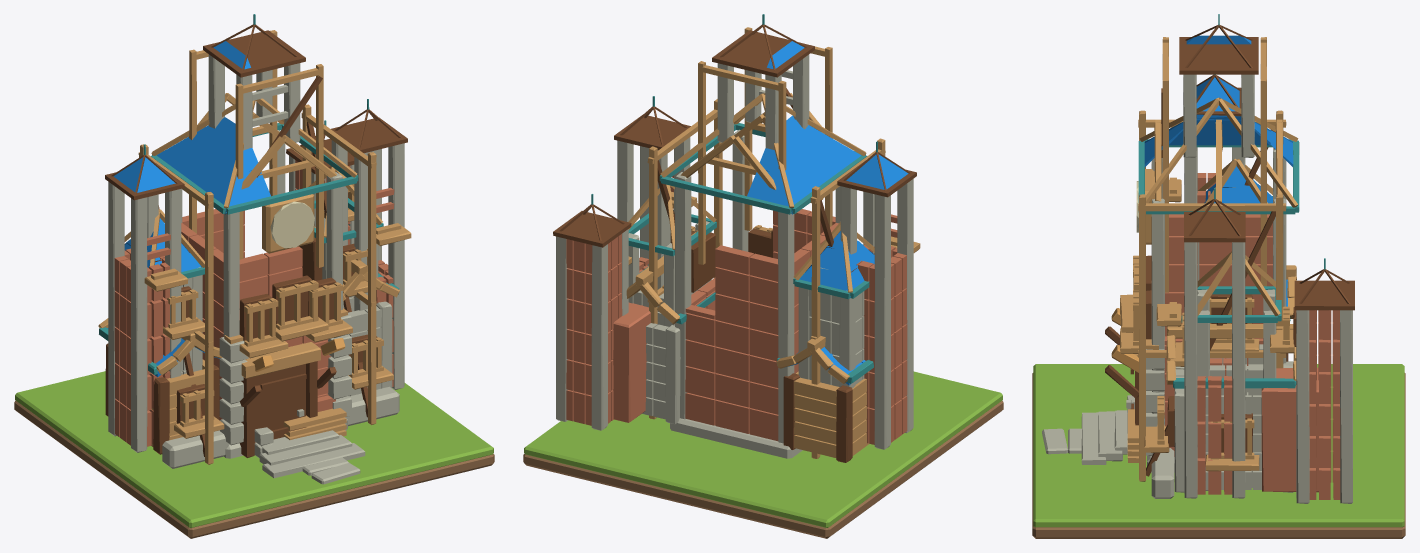
Rendered from town_hall_l13_construction_LOD1.glb.
3 renders of one model, left to right at view 1: azimuth 30°, elevation 25°; view 2: azimuth 150°, elevation 25°; view 3: azimuth 270°, elevation 25°, orthographic. The views are drawn at different scales.
Parts seen in each view (by area): view 1: town_hall_l13_construction_foundation.001, town_hall_l13_construction_grass_tile.001, town_hall_l13_construction_earth_tile.001, town_hall_l13_construction_path_stone.005; view 2: town_hall_l13_construction_foundation.001, town_hall_l13_construction_grass_tile.001, town_hall_l13_construction_earth_tile.001; view 3: town_hall_l13_construction_foundation.001, town_hall_l13_construction_grass_tile.001, town_hall_l13_construction_earth_tile.001, town_hall_l13_construction_path_stone.005.
Part boxes in pixels (<box>): town_hall_l13_construction_foundation.001: <box>98,14,411,478</box>; town_hall_l13_construction_grass_tile.001: <box>15,371,493,527</box>; town_hall_l13_construction_earth_tile.001: <box>14,400,494,538</box>; town_hall_l13_construction_path_stone.005: <box>311,463,360,484</box>; town_hall_l13_construction_foundation.001: <box>553,14,920,462</box>; town_hall_l13_construction_grass_tile.001: <box>524,371,1002,527</box>; town_hall_l13_construction_earth_tile.001: <box>523,400,1003,538</box>; town_hall_l13_construction_foundation.001: <box>1081,14,1354,503</box>; town_hall_l13_construction_grass_tile.001: <box>1033,364,1404,527</box>; town_hall_l13_construction_earth_tile.001: <box>1032,373,1405,538</box>; town_hall_l13_construction_path_stone.005: <box>1042,428,1067,454</box>.
Size of the model in its own units: 3.6 by 4.76 by 3.6.
